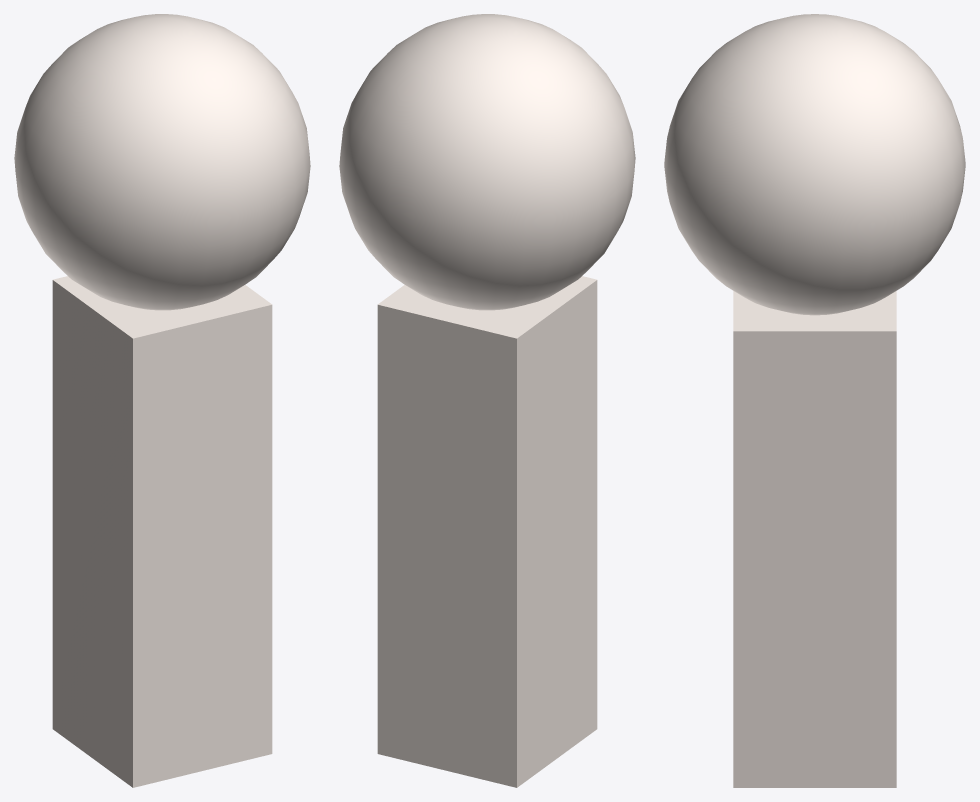
The model's file is player.obj.
The picture shows the model from 3 angles, left to right: view 1: azimuth 30°, elevation 25°; view 2: azimuth 150°, elevation 25°; view 3: azimuth 270°, elevation 25°; orthographic projection.
Parts seen in each view (by area): view 1: Dummy; view 2: Dummy; view 3: Dummy.
Part boxes in pixels (left/top/right/bottom): Dummy: left=14, top=14, right=310, bottom=787; Dummy: left=339, top=14, right=635, bottom=787; Dummy: left=664, top=14, right=965, bottom=787.
Size of the model in its own units: 0.6227 by 1.65 by 0.6227.
1 material, 1 textured.
